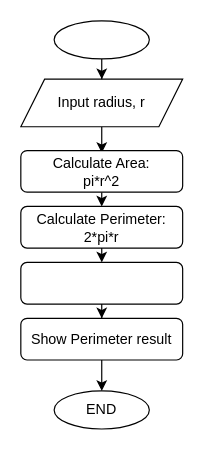
This 203x450 diagram has some shape labels left out. The shapes that lost their labels are listed below. From the top down, each one's centre as x and y in pixels, then its label:
At point 101,39: "START".
At point 101,282: "Show Area result".
